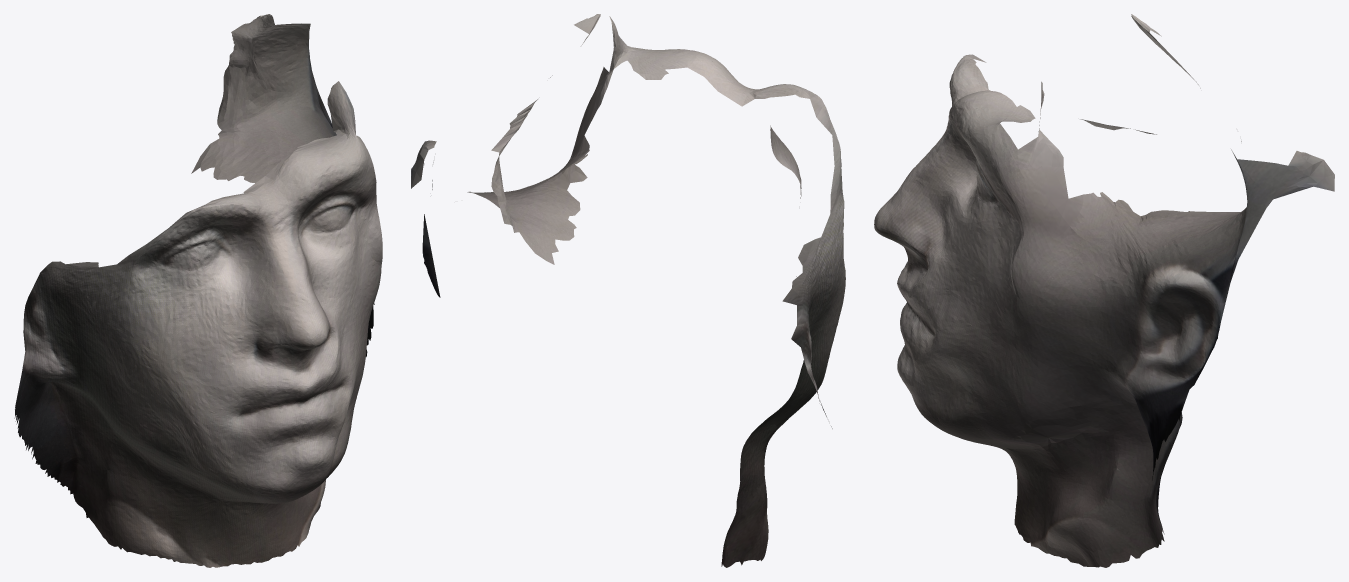
File: 5040_aligned_4920_display_low_res.gltf
3 views of the same model, side by side, from view 1: azimuth 30°, elevation 25°; view 2: azimuth 150°, elevation 25°; view 3: azimuth 270°, elevation 25° (orthographic). The views are drawn at different scales.
Visible parts, largest first — view 1: model; view 2: model; view 3: model.
Part boxes in pixels (bbox=[...]): model: bbox=[14, 14, 382, 567]; model: bbox=[411, 14, 845, 567]; model: bbox=[874, 14, 1334, 567].
Bounding box in the file's own units: 184 × 236 × 183.
Materials: 1 (1 with a texture image).
